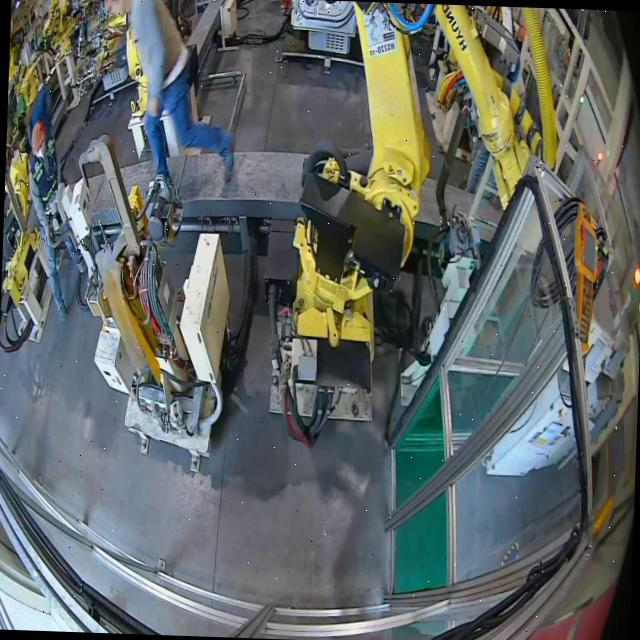Person: (99, 0, 240, 193), (21, 85, 76, 317), (462, 148, 501, 206)
